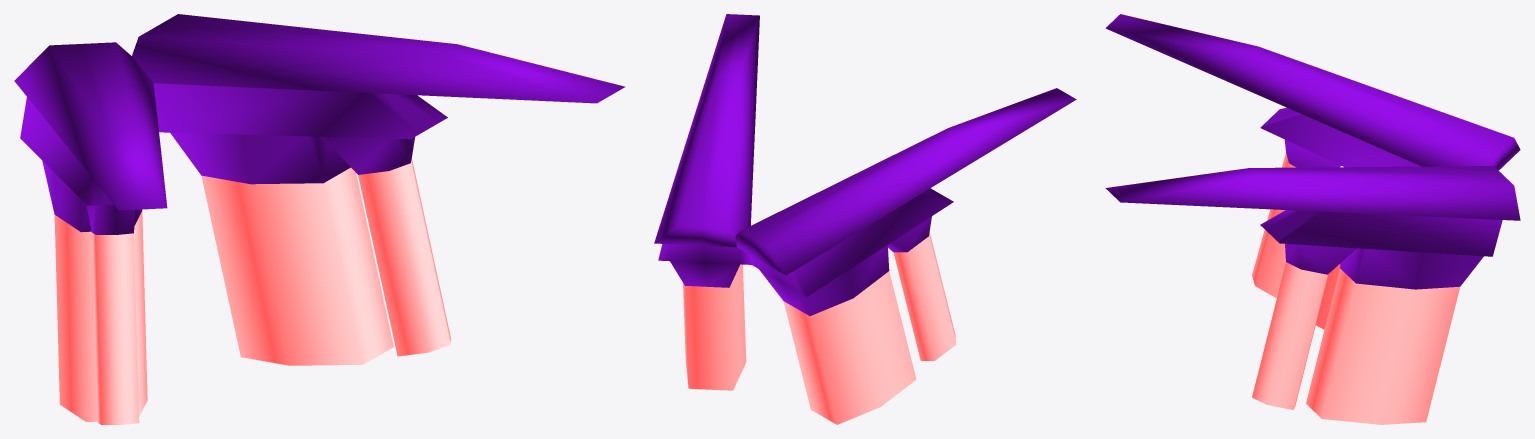
Rendered from Wings.glb.
3 views of the same model, side by side, from view 1: azimuth 30°, elevation 25°; view 2: azimuth 150°, elevation 25°; view 3: azimuth 270°, elevation 25° (orthographic). The views are drawn at different scales.
Parts seen in each view (by area): view 1: Wings, Wings_Fire; view 2: Wings, Wings_Fire; view 3: Wings, Wings_Fire.
Part boxes in pixels (bbox=[...]): Wings: bbox=[14, 14, 625, 234]; Wings_Fire: bbox=[54, 158, 451, 424]; Wings: bbox=[654, 14, 1076, 315]; Wings_Fire: bbox=[683, 232, 956, 424]; Wings: bbox=[1105, 14, 1520, 289]; Wings_Fire: bbox=[1252, 153, 1459, 424].
Bounding box in the file's own units: 0.647 × 0.4385 × 0.6025.
